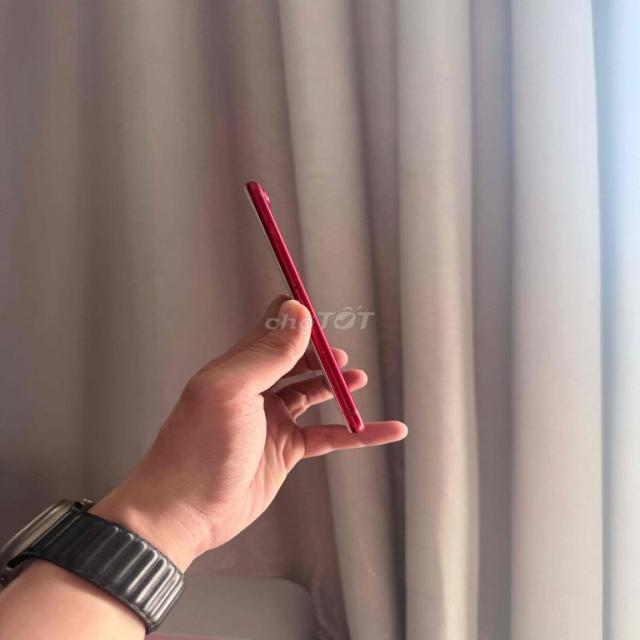scratch: (339, 399, 359, 416), (294, 286, 308, 304), (319, 344, 330, 358)
